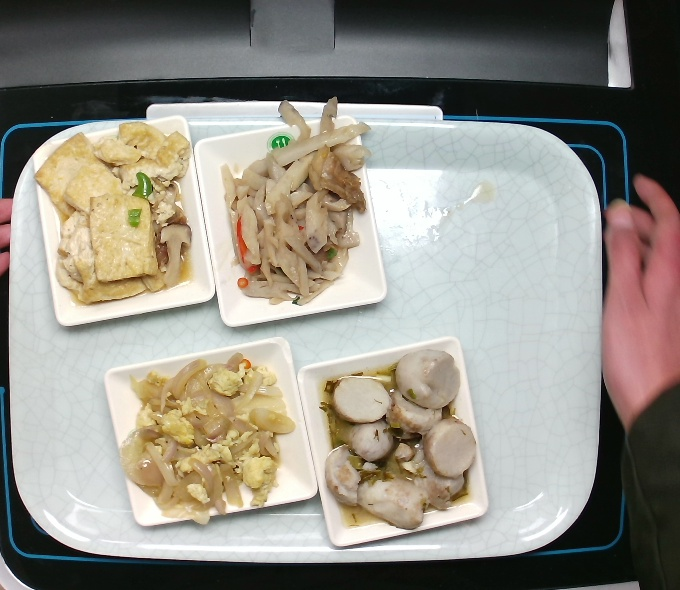wcq-JiaChangDouFu: (33, 119, 197, 307)
wcq-QingChaoOuPian: (218, 91, 377, 315)
wcq-YangCongChaoDan: (119, 351, 299, 528)
wcq-YangYu: (317, 344, 481, 535)
